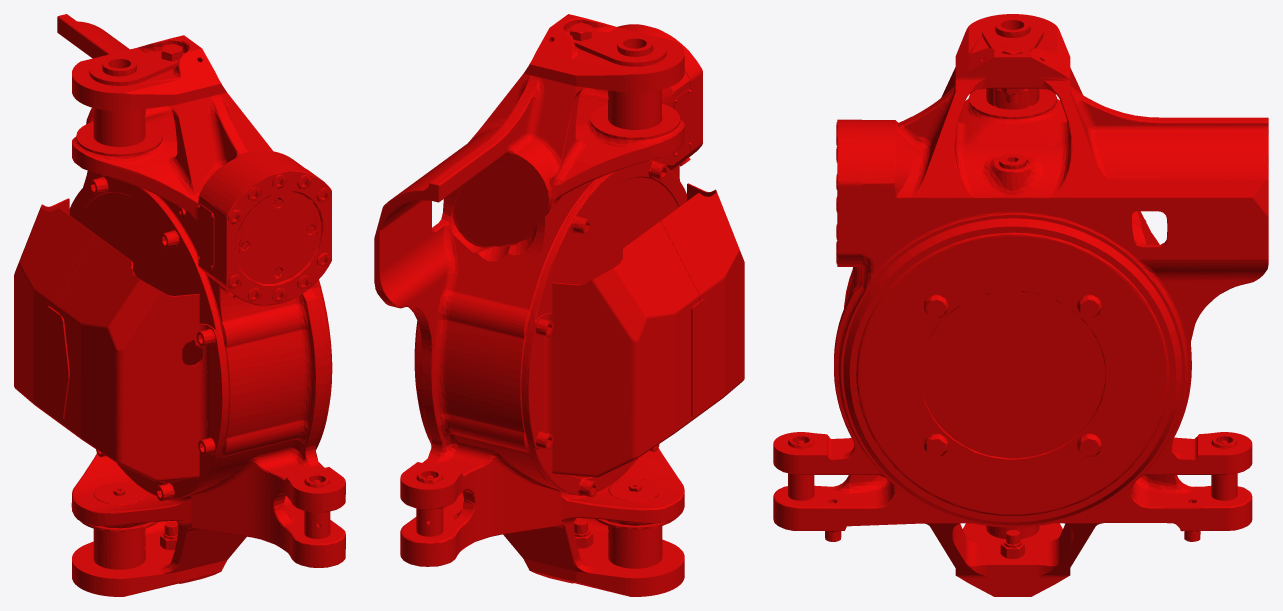
The model's file is ROTO.dae.
The picture shows the model from 3 angles, left to right: view 1: azimuth 30°, elevation 25°; view 2: azimuth 150°, elevation 25°; view 3: azimuth 270°, elevation 25°; orthographic projection. The views are drawn at different scales.
Visible parts, largest first — view 1: node.001; view 2: node.001; view 3: node.001.
Boxes of the visible parts, x1,y1,x2,y2 form: node.001: (14,14,345,596); node.001: (374,14,744,596); node.001: (773,14,1268,596).
Bounding box in the file's own units: 0.2719 × 0.5615 × 0.675.
